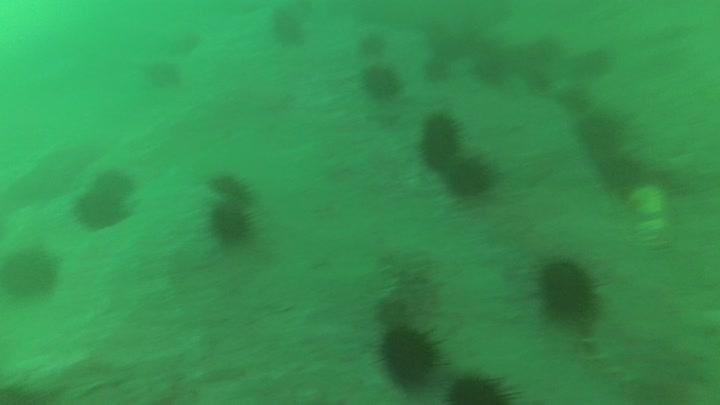echinus: (533, 254, 604, 325), (375, 321, 445, 389), (1, 243, 61, 301), (72, 180, 131, 232), (443, 369, 520, 405), (443, 153, 496, 201), (575, 109, 625, 155), (207, 200, 255, 246), (597, 150, 644, 192), (415, 133, 465, 172), (359, 62, 404, 102), (207, 169, 257, 205), (268, 7, 309, 49), (422, 109, 471, 144), (470, 49, 512, 88), (573, 45, 616, 81), (91, 166, 137, 199), (142, 57, 184, 91), (559, 84, 598, 118), (530, 38, 569, 70), (421, 53, 454, 85), (522, 68, 556, 98), (356, 29, 389, 59)
holothurian: (375, 245, 444, 320), (585, 328, 644, 386)
